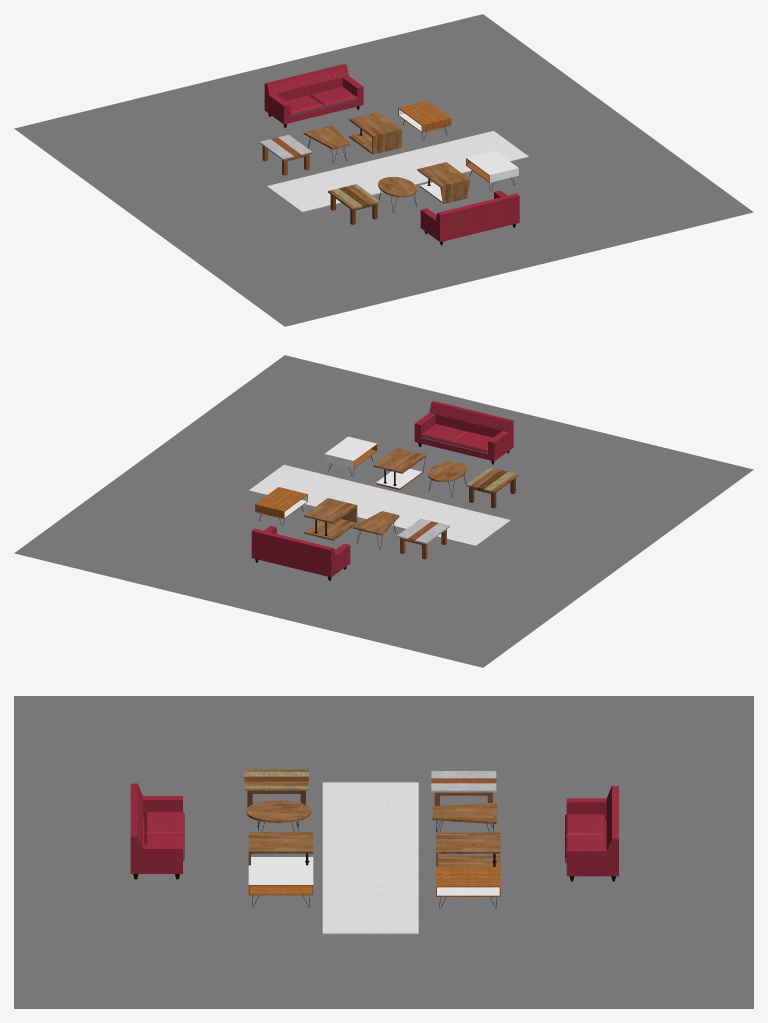
Rendered from Coffee Table Options.gltf.
3 renders of one model, top to bottom at view 1: azimuth 30°, elevation 25°; view 2: azimuth 150°, elevation 25°; view 3: azimuth 270°, elevation 25°, orthographic. The views are drawn at different scales.
Visible parts, largest first — view 1: floor, Component#1 (×2), object 44, Coffee Table Modern with black iron pipe, Coffee Table Modern with black iron pipe#1, Coffee Table Midcentury with Hairpin legs, Coffee Table Midcentury with Hairpin legs#1, Coffee table concrete wood inlay, Coffee table concrete wood inlay#1, Wood top coffee table with hairpin legs#1, Wood top coffee table with hairpin legs; view 2: floor, Component#1 (×2), object 44, Coffee Table Modern with black iron pipe, Coffee Table Modern with black iron pipe#1, Coffee Table Midcentury with Hairpin legs#1, Coffee Table Midcentury with Hairpin legs, Coffee table concrete wood inlay, Coffee table concrete wood inlay#1, Wood top coffee table with hairpin legs, Wood top coffee table with hairpin legs#1; view 3: floor, object 44, Component#1 (×2), Coffee Table Modern with black iron pipe, Coffee Table Modern with black iron pipe#1, Coffee Table Midcentury with Hairpin legs#1, Coffee Table Midcentury with Hairpin legs, Coffee table concrete wood inlay#1, Coffee table concrete wood inlay, Wood top coffee table with hairpin legs#1, Wood top coffee table with hairpin legs.
Part boxes in pixels (x1,y1,x2,y2): floor: (14,14,753,326); Component#1 (×2): (264,64,519,245); object 44: (267,131,528,212); Coffee Table Modern with black iron pipe: (349,112,401,154); Coffee Table Modern with black iron pipe#1: (417,162,469,203); Coffee Table Midcentury with Hairpin legs: (398,100,451,132); Coffee Table Midcentury with Hairpin legs#1: (466,151,518,182); Coffee table concrete wood inlay: (259,134,312,175); Coffee table concrete wood inlay#1: (328,184,380,224); Wood top coffee table with hairpin legs#1: (378,176,416,197); Wood top coffee table with hairpin legs: (303,125,349,149); floor: (14,355,753,667); Component#1 (×2): (251,401,513,580); object 44: (248,465,510,545); Coffee Table Modern with black iron pipe: (304,498,357,540); Coffee Table Modern with black iron pipe#1: (373,448,425,489); Coffee Table Midcentury with Hairpin legs#1: (324,436,377,468); Coffee Table Midcentury with Hairpin legs: (255,487,307,518); Coffee table concrete wood inlay: (397,518,449,559); Coffee table concrete wood inlay#1: (466,467,518,508); Wood top coffee table with hairpin legs: (353,511,399,535); Wood top coffee table with hairpin legs#1: (428,461,466,481); floor: (14,696,753,1008); object 44: (322,782,418,934); Component#1 (×2): (130,783,618,881); Coffee Table Modern with black iron pipe: (436,832,500,866); Coffee Table Modern with black iron pipe#1: (248,832,313,865); Coffee Table Midcentury with Hairpin legs#1: (248,865,313,895); Coffee Table Midcentury with Hairpin legs: (436,867,500,896); Coffee table concrete wood inlay#1: (244,769,308,807); Coffee table concrete wood inlay: (431,771,496,806); Wood top coffee table with hairpin legs#1: (246,800,311,822); Wood top coffee table with hairpin legs: (432,802,497,823).
Bounding box in the file's own units: 12.19 × 0.8275 × 12.19.
14 materials, 10 textured.
